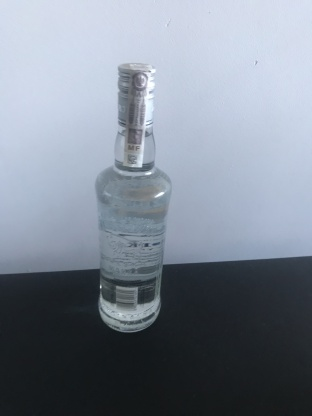nakretka: (114, 58, 157, 130)
